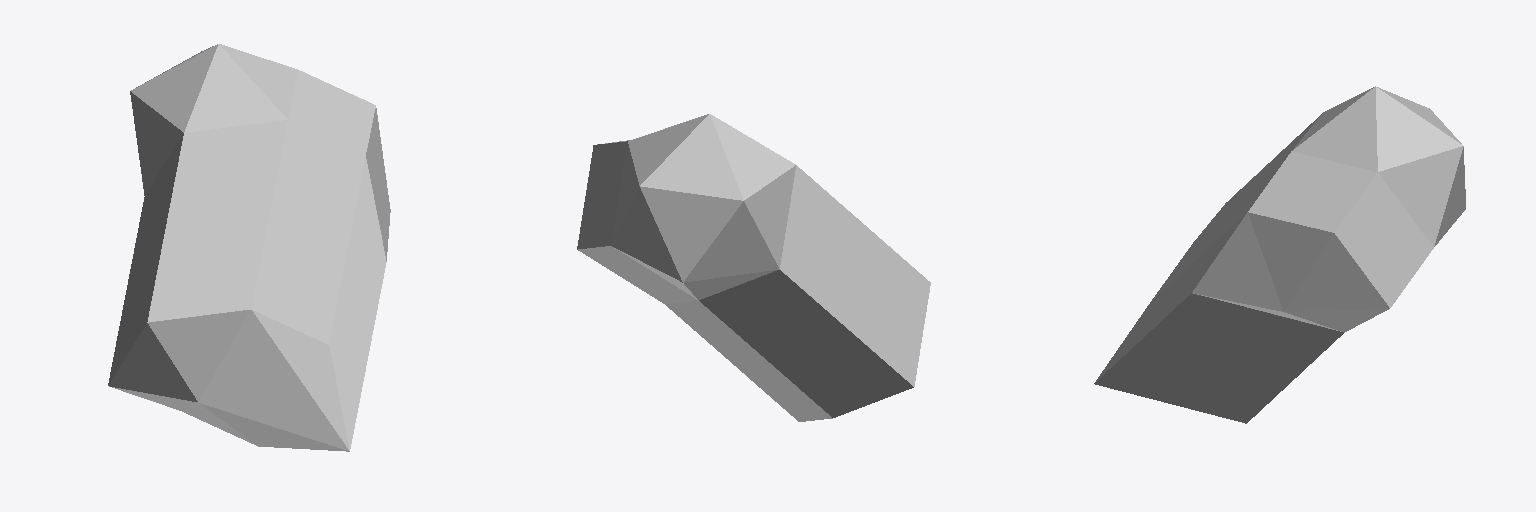
The model's file is cloud.obj.
3 renders of one model, left to right at view 1: azimuth 30°, elevation 25°; view 2: azimuth 150°, elevation 25°; view 3: azimuth 270°, elevation 25°, orthographic.
Visible parts, largest first — view 1: model__1_:Mesh; view 2: model__1_:Mesh; view 3: model__1_:Mesh.
Part boxes in pixels (x1,y1,x2,y2): model__1_:Mesh: (108,44,390,451); model__1_:Mesh: (577,114,930,421); model__1_:Mesh: (1094,86,1465,423).
Bounding box in the file's own units: 0.7761 × 0.8805 × 0.8501.